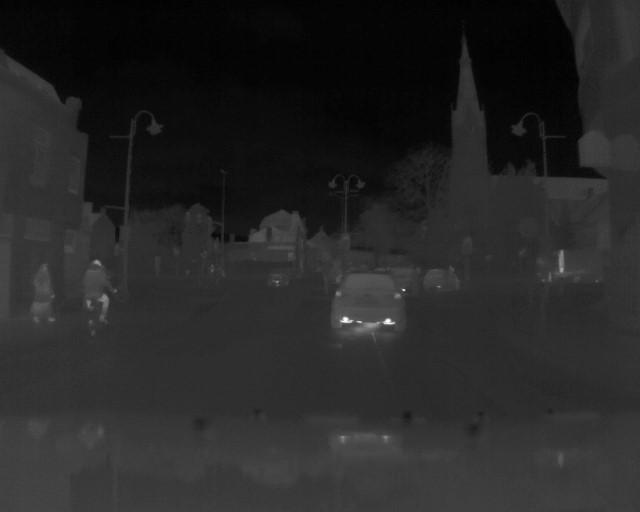car: (329, 271, 407, 335), (422, 265, 462, 292), (265, 268, 291, 286)
person: (81, 257, 115, 326), (31, 262, 58, 324)
